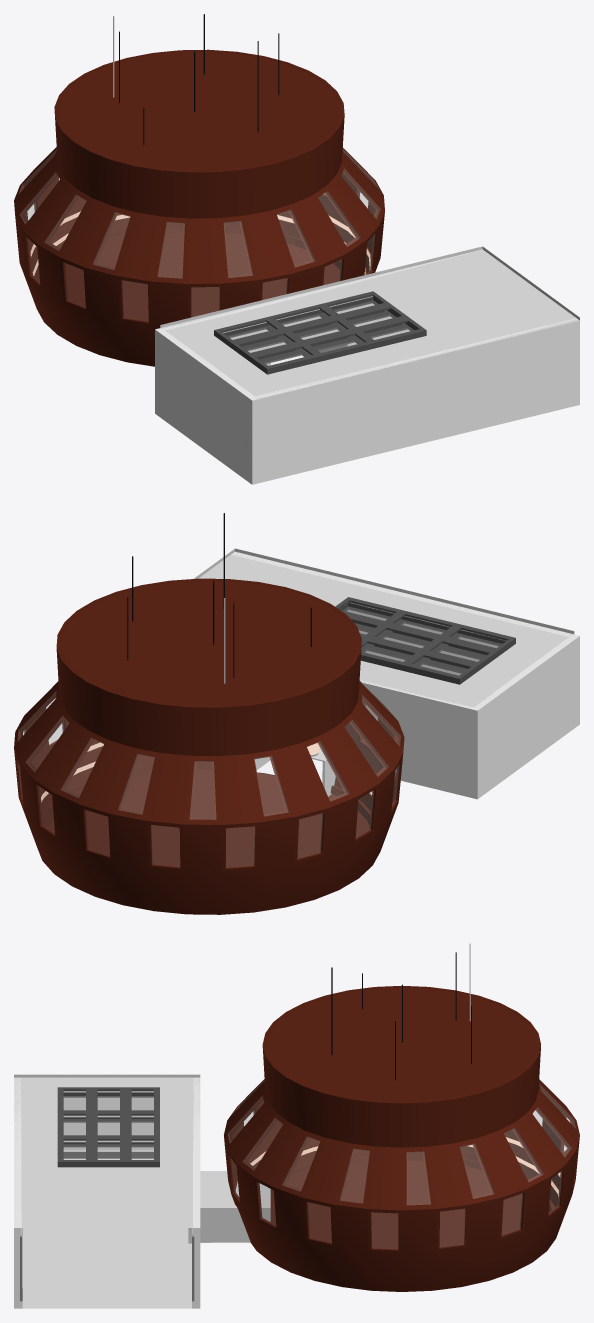
File: sideMuseum.glb
The picture shows the model from 3 angles, top to bottom: view 1: azimuth 30°, elevation 25°; view 2: azimuth 150°, elevation 25°; view 3: azimuth 270°, elevation 25°; orthographic projection. The views are drawn at different scales.
Parts seen in each view (by area): view 1: Circle, Plane.001, Circle.001, Plane.002, Plane.003; view 2: Circle, Circle.001, Plane.001, Plane.002, Plane.003, Cube; view 3: Circle, Circle.001, Plane.002, Plane, Plane.003, Plane.001, Cube.
Boxes of the visible parts, <box> form: Circle: <box>14,49,384,366</box>; Plane.001: <box>155,249,579,484</box>; Circle.001: <box>58,51,340,320</box>; Plane.002: <box>160,246,579,398</box>; Plane.003: <box>214,291,426,374</box>; Circle: <box>14,578,404,914</box>; Circle.001: <box>48,580,369,866</box>; Plane.001: <box>231,551,579,799</box>; Plane.002: <box>194,548,574,707</box>; Plane.003: <box>335,597,515,684</box>; Cube: <box>254,746,335,796</box>; Circle: <box>224,985,579,1291</box>; Circle.001: <box>266,987,537,1248</box>; Plane.002: <box>14,1074,200,1227</box>; Plane: <box>22,1158,191,1308</box>; Plane.003: <box>57,1087,159,1167</box>; Plane.001: <box>14,1077,200,1308</box>; Cube: <box>188,1171,270,1243</box>.
Bounding box in the file's own units: 19.61 × 15.52 × 29.6.
